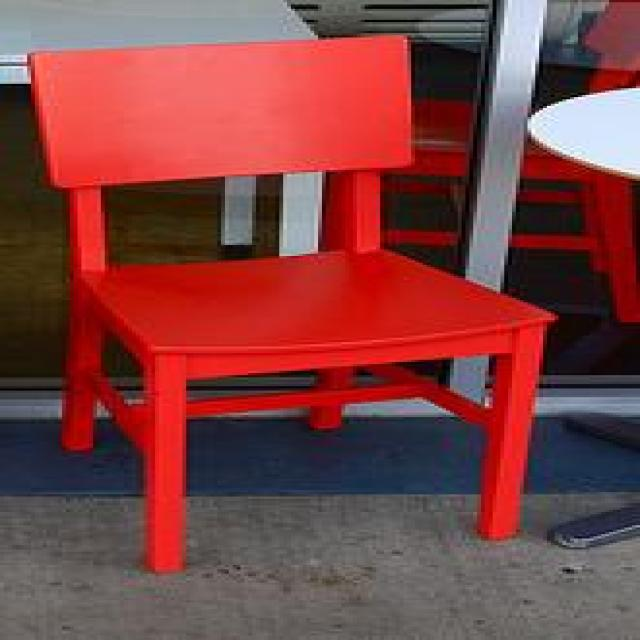chair: (26, 34, 556, 576)
